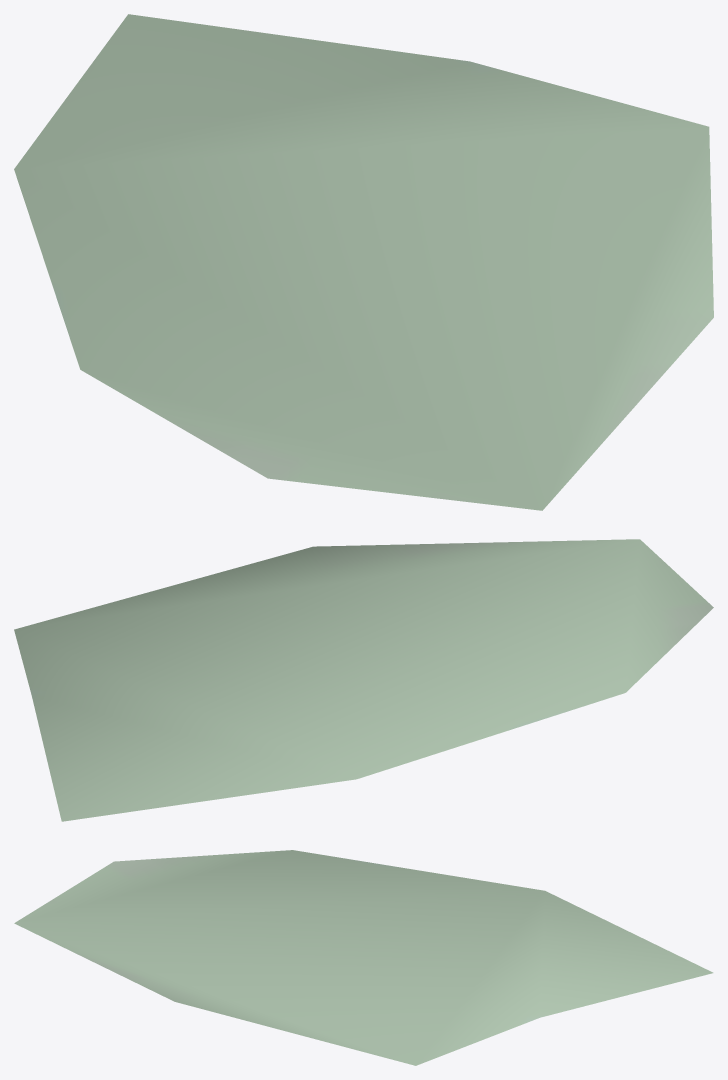
Rendered from TROLLHOLE02_HOLECAP147.fbx.
3 views of the same model, one above another, from view 1: azimuth 30°, elevation 25°; view 2: azimuth 150°, elevation 25°; view 3: azimuth 270°, elevation 25° (orthographic). The views are drawn at different scales.
Parts seen in each view (by area): view 1: TROLLHOLE02_HOLECAP147; view 2: TROLLHOLE02_HOLECAP147; view 3: TROLLHOLE02_HOLECAP147.
Boxes of the visible parts, x1,y1,x2,y2 form: TROLLHOLE02_HOLECAP147: [14, 14, 713, 510]; TROLLHOLE02_HOLECAP147: [14, 539, 713, 821]; TROLLHOLE02_HOLECAP147: [14, 850, 713, 1065].
Bounding box in the file's own units: 35108 × 1064 × 50024.
1 material, 1 textured.
